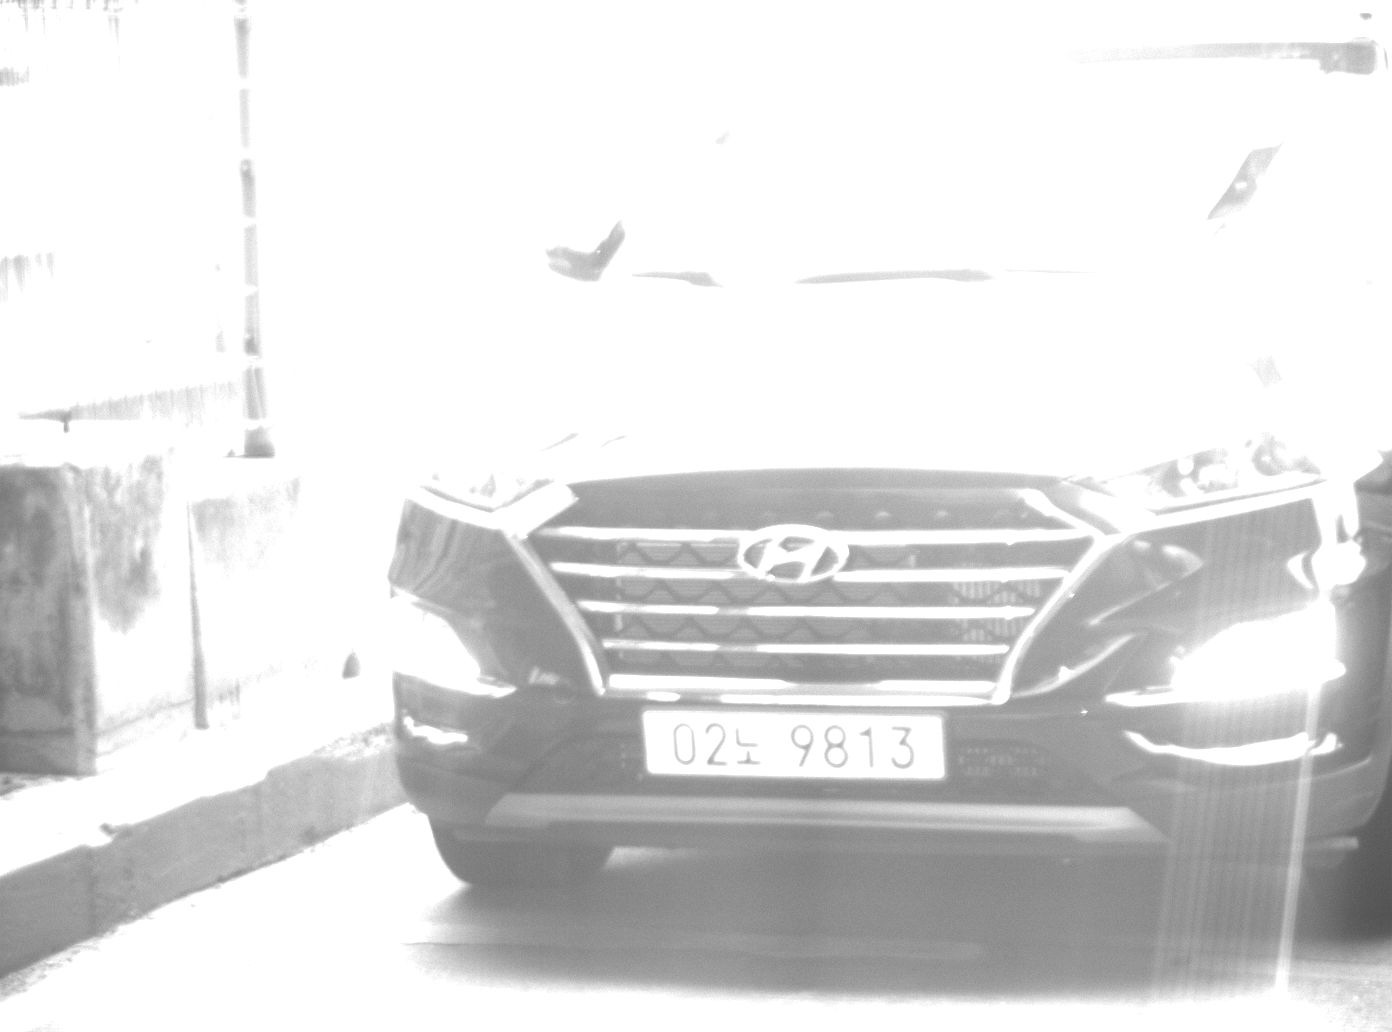car: (380, 10, 1390, 937)
plate: (635, 703, 952, 785)
